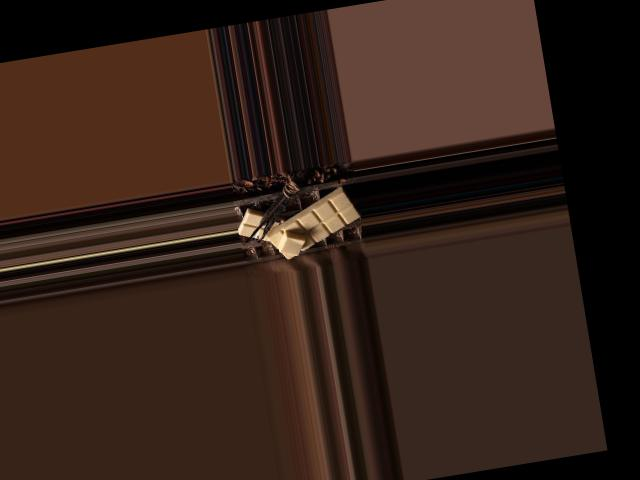chocolate: (258, 186, 364, 261)
